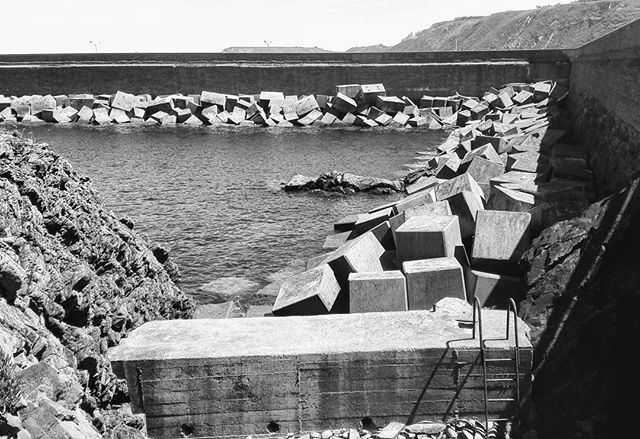rocks: (300, 63, 601, 333), (2, 78, 537, 137)
sea: (22, 106, 454, 300)
